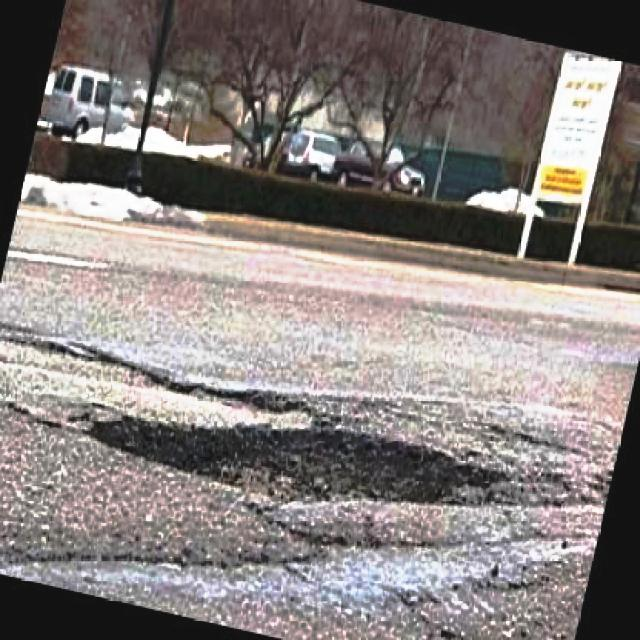pothole: (83, 411, 511, 512), (5, 328, 306, 415)
